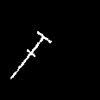double_crochet: (11, 32, 51, 77)
